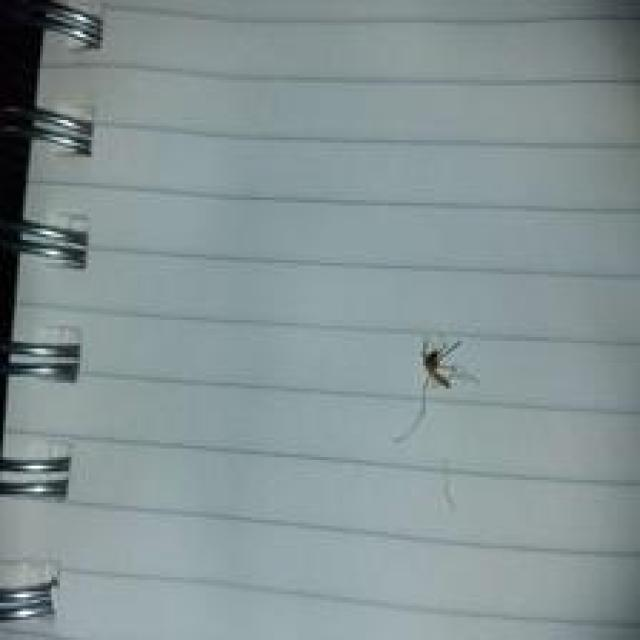Culex: (420, 337, 463, 392)
